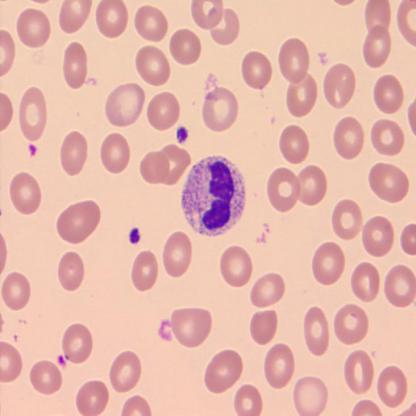Segmented neutrophil: (180, 154, 247, 238)
